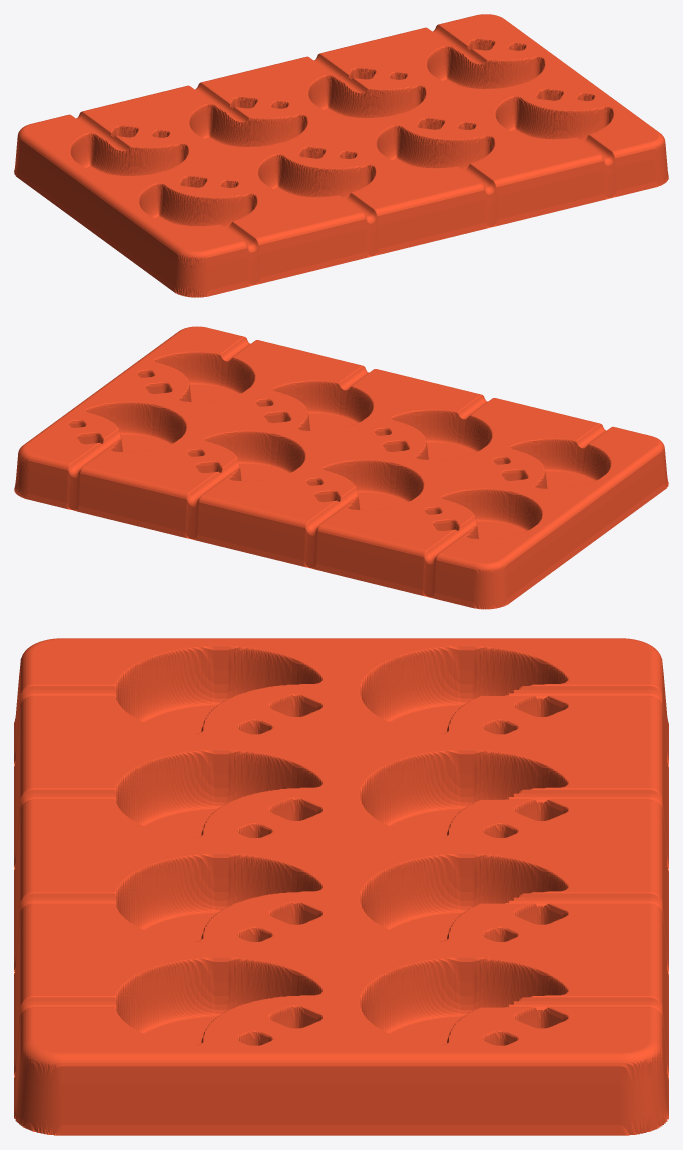
Rendered from mold.glb.
3 renders of one model, top to bottom at view 1: azimuth 30°, elevation 25°; view 2: azimuth 150°, elevation 25°; view 3: azimuth 270°, elevation 25°, orthographic. The views are drawn at different scales.
Visible parts, largest first — view 1: geometry_0; view 2: geometry_0; view 3: geometry_0.
Boxes of the visible parts, <box> form: geometry_0: <box>14,14,668,297</box>; geometry_0: <box>14,326,668,609</box>; geometry_0: <box>14,638,668,1135</box>.
Size of the model in its own units: 0.1907 by 0.0155 by 0.1229.
